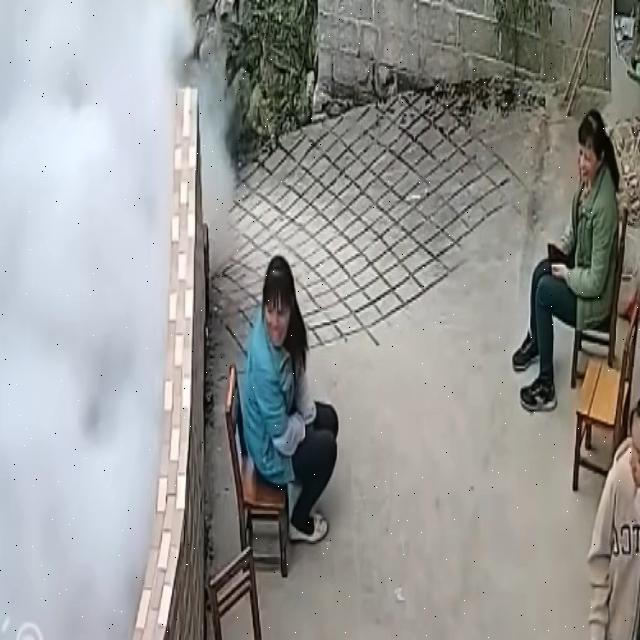sitting: (513, 110, 619, 411), (240, 255, 338, 543)
